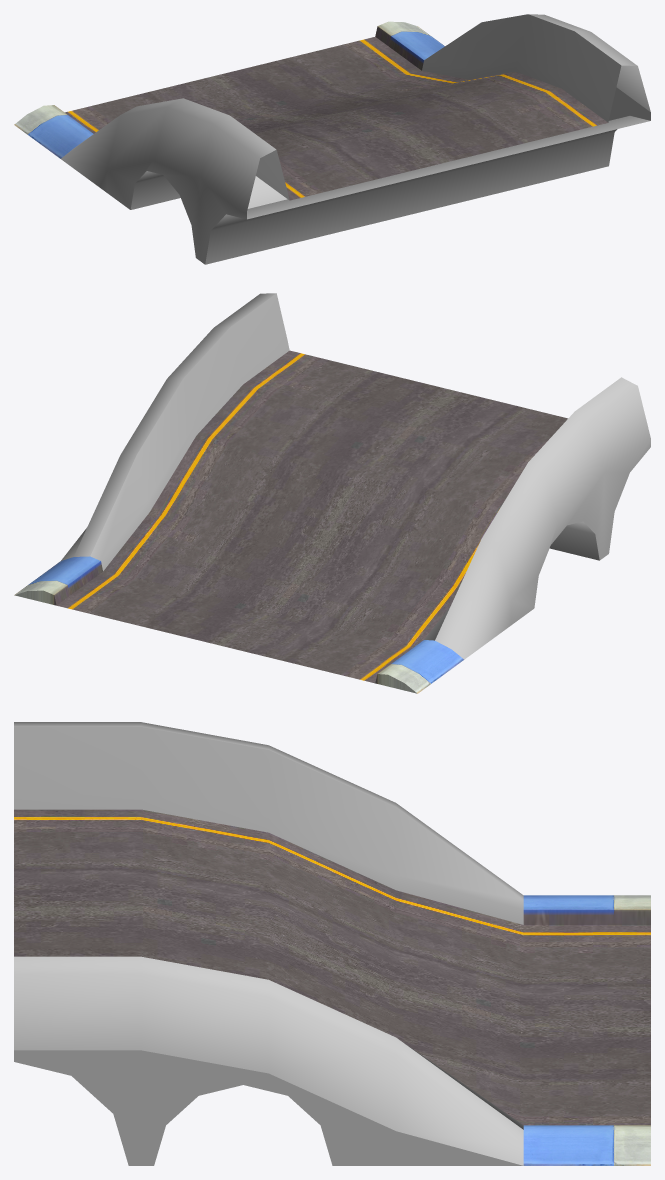
The model's file is RoadRise.FBX.
3 views of the same model, one above another, from view 1: azimuth 30°, elevation 25°; view 2: azimuth 150°, elevation 25°; view 3: azimuth 270°, elevation 25° (orthographic). The views are drawn at different scales.
Parts seen in each view (by area): view 1: RoadRise; view 2: RoadRise; view 3: RoadRise.
Part boxes in pixels (x1,y1,x2,y2): RoadRise: (14, 14, 650, 264); RoadRise: (14, 293, 650, 693); RoadRise: (14, 722, 650, 1165).
Bounding box in the file's own units: 1000 × 328 × 1000.
